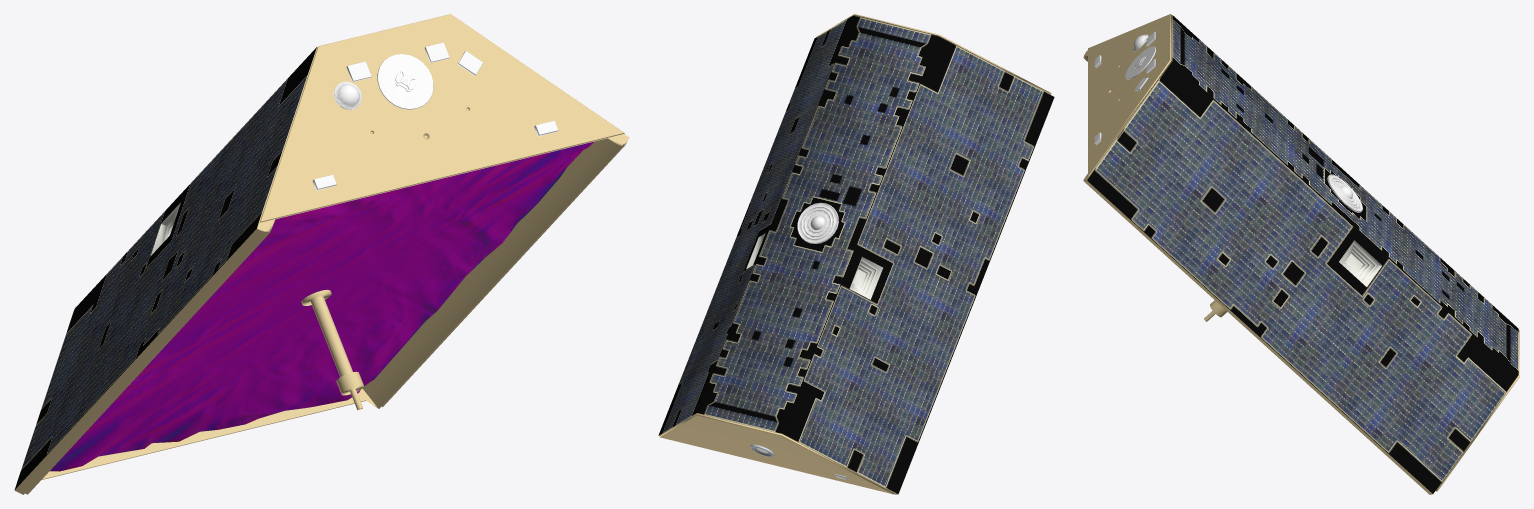
The model's file is grace.glb.
The picture shows the model from 3 angles, left to right: view 1: azimuth 30°, elevation 25°; view 2: azimuth 150°, elevation 25°; view 3: azimuth 270°, elevation 25°; orthographic projection. The views are drawn at different scales.
Visible parts, largest first — view 1: Atlas presentation transform; view 2: Atlas presentation transform; view 3: Atlas presentation transform.
Part boxes in pixels (x1,y1,x2,y2): Atlas presentation transform: (14, 14, 629, 494); Atlas presentation transform: (658, 14, 1054, 494); Atlas presentation transform: (1083, 14, 1519, 494).
Size of the model in its own units: 61.12 by 86.83 by 86.83.
Materials: 13 (2 with a texture image).
